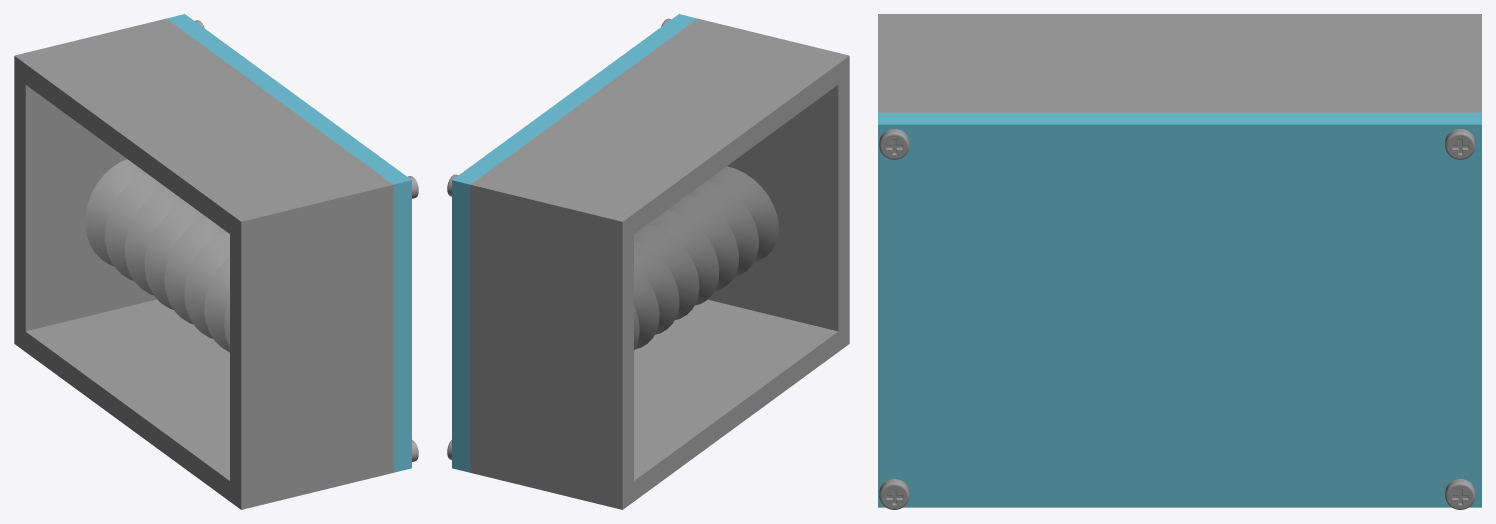
The model's file is Box met veer.fbx.
The picture shows the model from 3 angles, left to right: view 1: azimuth 30°, elevation 25°; view 2: azimuth 150°, elevation 25°; view 3: azimuth 270°, elevation 25°; orthographic projection. The views are drawn at different scales.
Parts seen in each view (by area): view 1: Body2, Body1, Body3; view 2: Body2, Body1, Body3; view 3: Body3, Body2, Body5, Body4, Body7, Body6.
Part boxes in pixels (bbox=[...]): Body2: bbox=[14, 18, 393, 509]; Body1: bbox=[85, 159, 229, 352]; Body3: bbox=[166, 14, 411, 472]; Body2: bbox=[470, 18, 849, 509]; Body1: bbox=[634, 166, 778, 350]; Body3: bbox=[452, 14, 696, 472]; Body3: bbox=[878, 112, 1481, 507]; Body2: bbox=[878, 14, 1481, 112]; Body5: bbox=[879, 129, 909, 159]; Body4: bbox=[879, 479, 909, 509]; Body7: bbox=[1445, 129, 1475, 159]; Body6: bbox=[1445, 479, 1475, 509].
Bounding box in the file's own units: 45.4 × 70 × 100.
